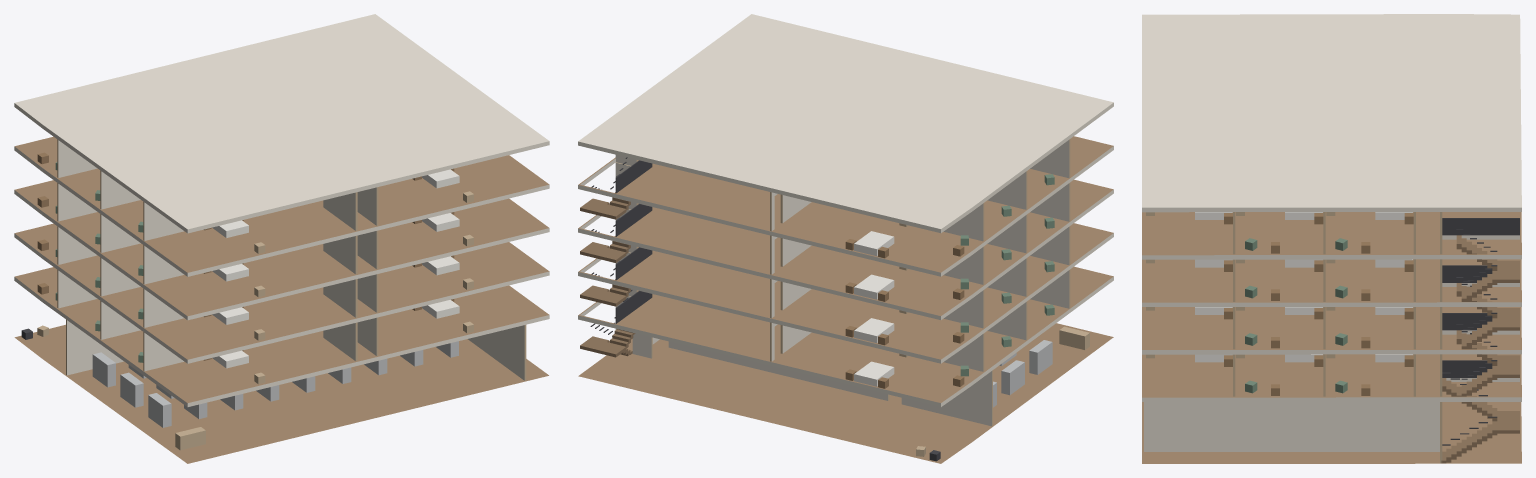
Rendered from interior.glb.
3 renders of one model, left to right at view 1: azimuth 30°, elevation 25°; view 2: azimuth 150°, elevation 25°; view 3: azimuth 270°, elevation 25°, orthographic. The views are drawn at different scales.
Parts seen in each view (by area): view 1: slabs, partitions, coarse-s0, coarse-s3, coarse-s4, coarse-s1, coarse-s2; view 2: slabs, partitions, stair, coarse-s0, coarse-s1, coarse-s3, coarse-s4, coarse-s2; view 3: slabs, partitions, stair, coarse-s3, coarse-s1, coarse-s4, coarse-s2.
Boxes of the visible parts, bbox=[...] form: slabs: bbox=[14, 14, 549, 463]; partitions: bbox=[57, 139, 526, 380]; coarse-s0: bbox=[21, 325, 458, 450]; coarse-s3: bbox=[37, 196, 473, 297]; coarse-s4: bbox=[37, 152, 473, 253]; coarse-s1: bbox=[37, 283, 473, 384]; coarse-s2: bbox=[37, 239, 473, 340]; slabs: bbox=[578, 14, 1113, 463]; partitions: bbox=[615, 139, 1070, 426]; stair: bbox=[580, 157, 652, 357]; coarse-s0: bbox=[916, 326, 1089, 461]; coarse-s1: bbox=[845, 304, 1054, 388]; coarse-s3: bbox=[845, 217, 1054, 301]; coarse-s4: bbox=[845, 174, 1054, 258]; coarse-s2: bbox=[845, 261, 1054, 345]; slabs: bbox=[1142, 14, 1521, 463]; partitions: bbox=[1144, 212, 1442, 463]; stair: bbox=[1441, 218, 1519, 463]; coarse-s3: bbox=[1146, 259, 1413, 300]; coarse-s1: bbox=[1146, 354, 1413, 395]; coarse-s4: bbox=[1146, 212, 1413, 253]; coarse-s2: bbox=[1146, 307, 1413, 348].
Bounding box in the file's own units: 24.25 × 14.98 × 20.1.
